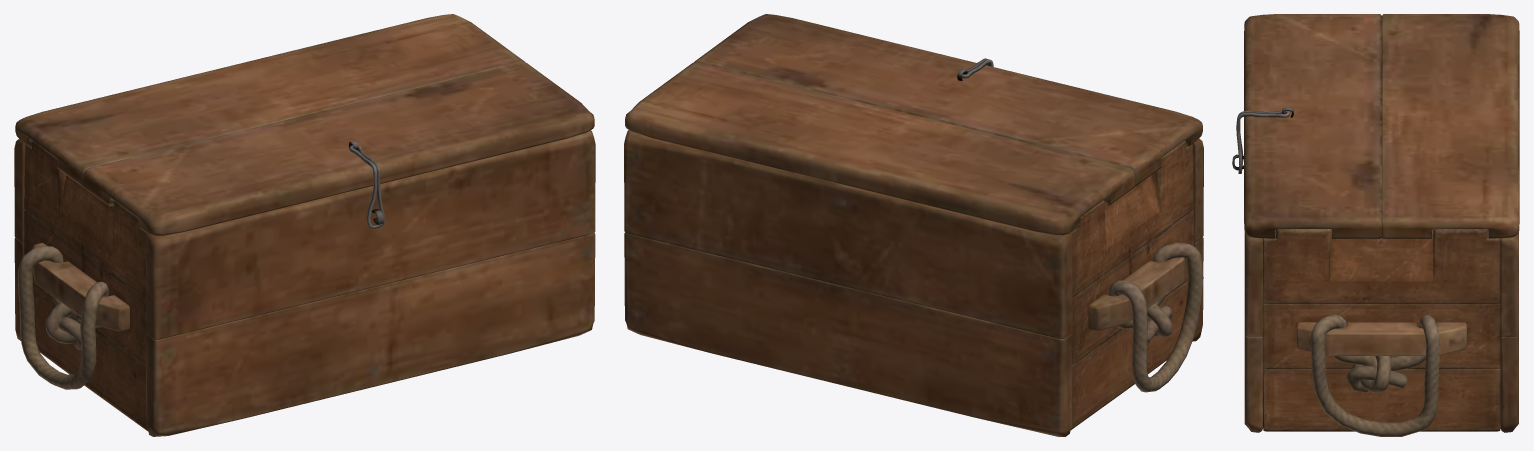
The model's file is wooden_crate_01.glb.
The picture shows the model from 3 angles, left to right: view 1: azimuth 30°, elevation 25°; view 2: azimuth 150°, elevation 25°; view 3: azimuth 270°, elevation 25°; orthographic projection. The views are drawn at different scales.
Visible parts, largest first — view 1: wooden_crate_01_lid; view 2: wooden_crate_01_lid; view 3: wooden_crate_01_lid.
Boxes of the visible parts, x1=… form: wooden_crate_01_lid: x1=14, y1=14, x2=595, y2=436; wooden_crate_01_lid: x1=624, y1=14, x2=1203, y2=436; wooden_crate_01_lid: x1=1232, y1=14, x2=1519, y2=436.
Bounding box in the file's own units: 0.8253 × 0.3496 × 0.409.
Materials: 1 (1 with a texture image).
